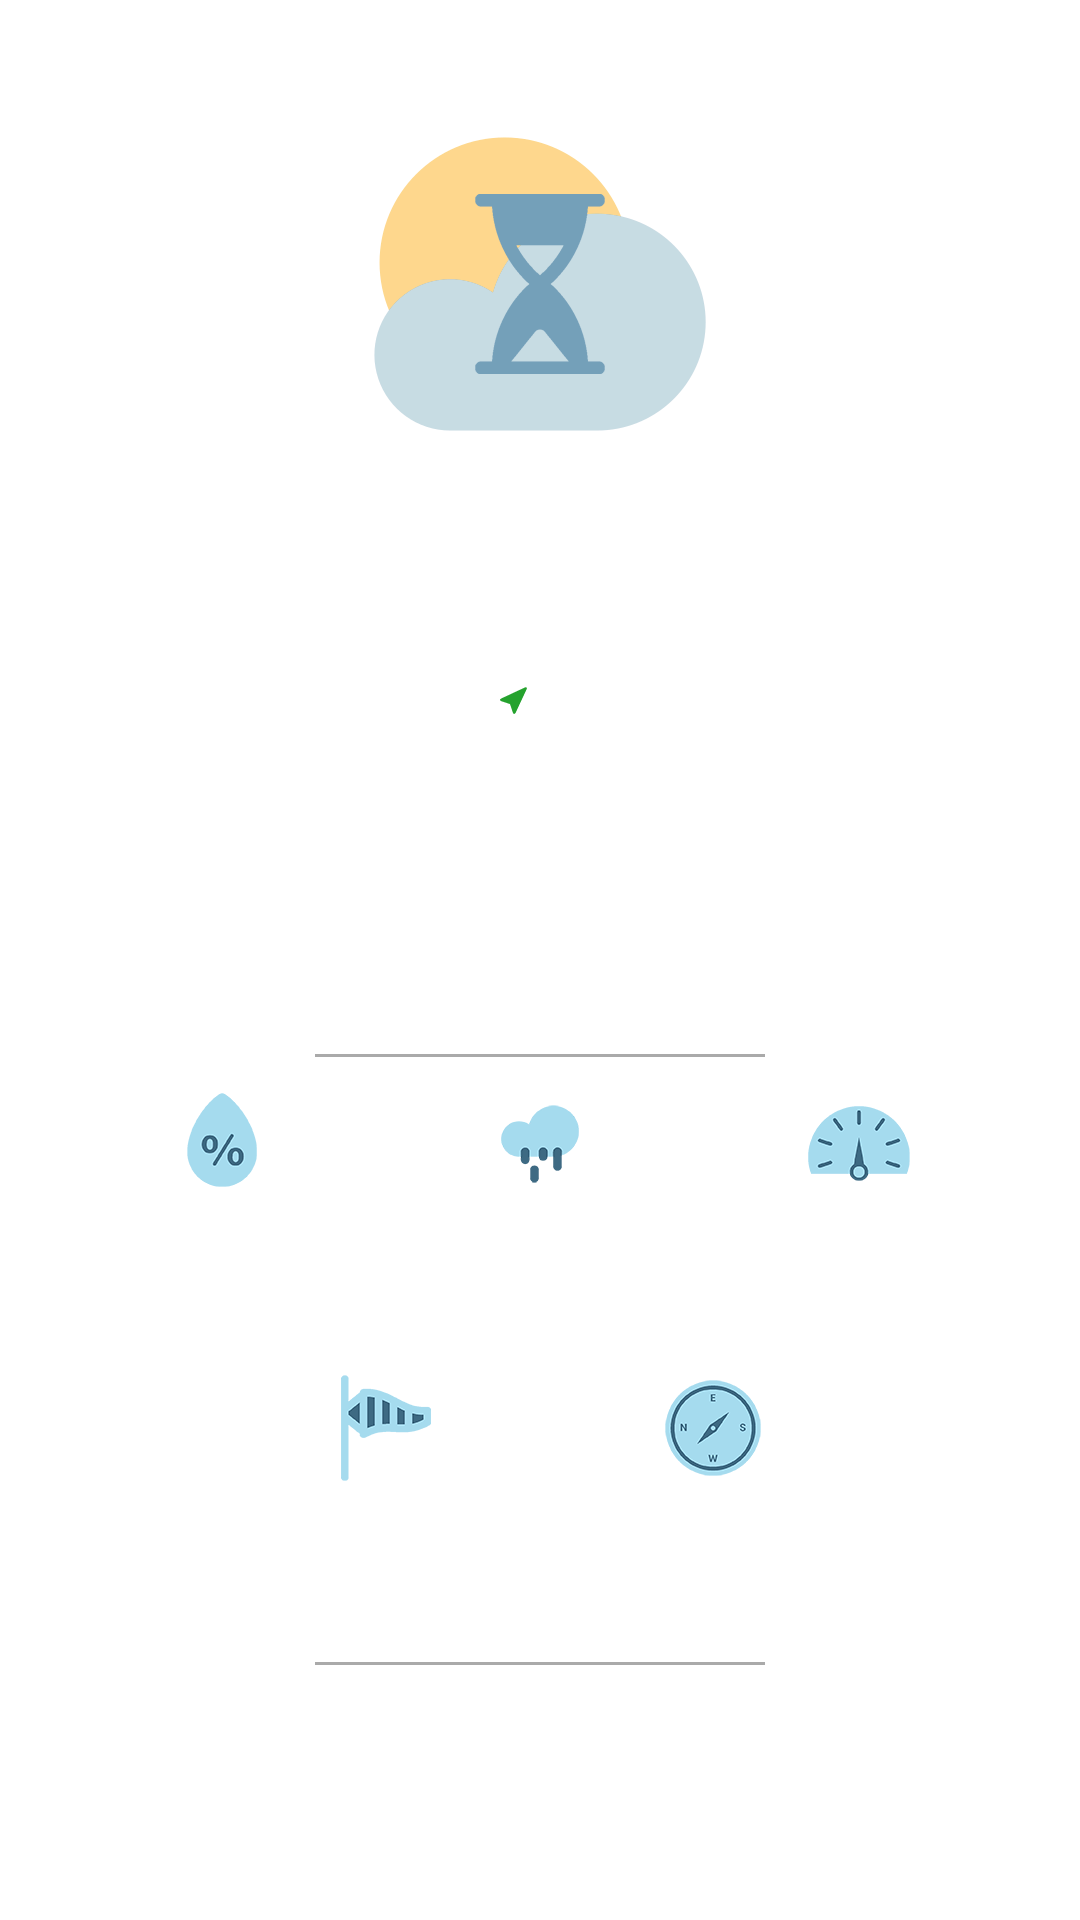

Point at icon controls on the screen. Image size 1080x1920, points as (x=x, y=y).
load: (x=540, y=284)
location arrow: (x=513, y=700)
parameter humidity: (x=222, y=1140)
parameter pressure: (x=859, y=1143)
parameter rain volume: (x=540, y=1144)
parameter wind direction: (x=713, y=1428)
parameter wind speed: (x=386, y=1428)
